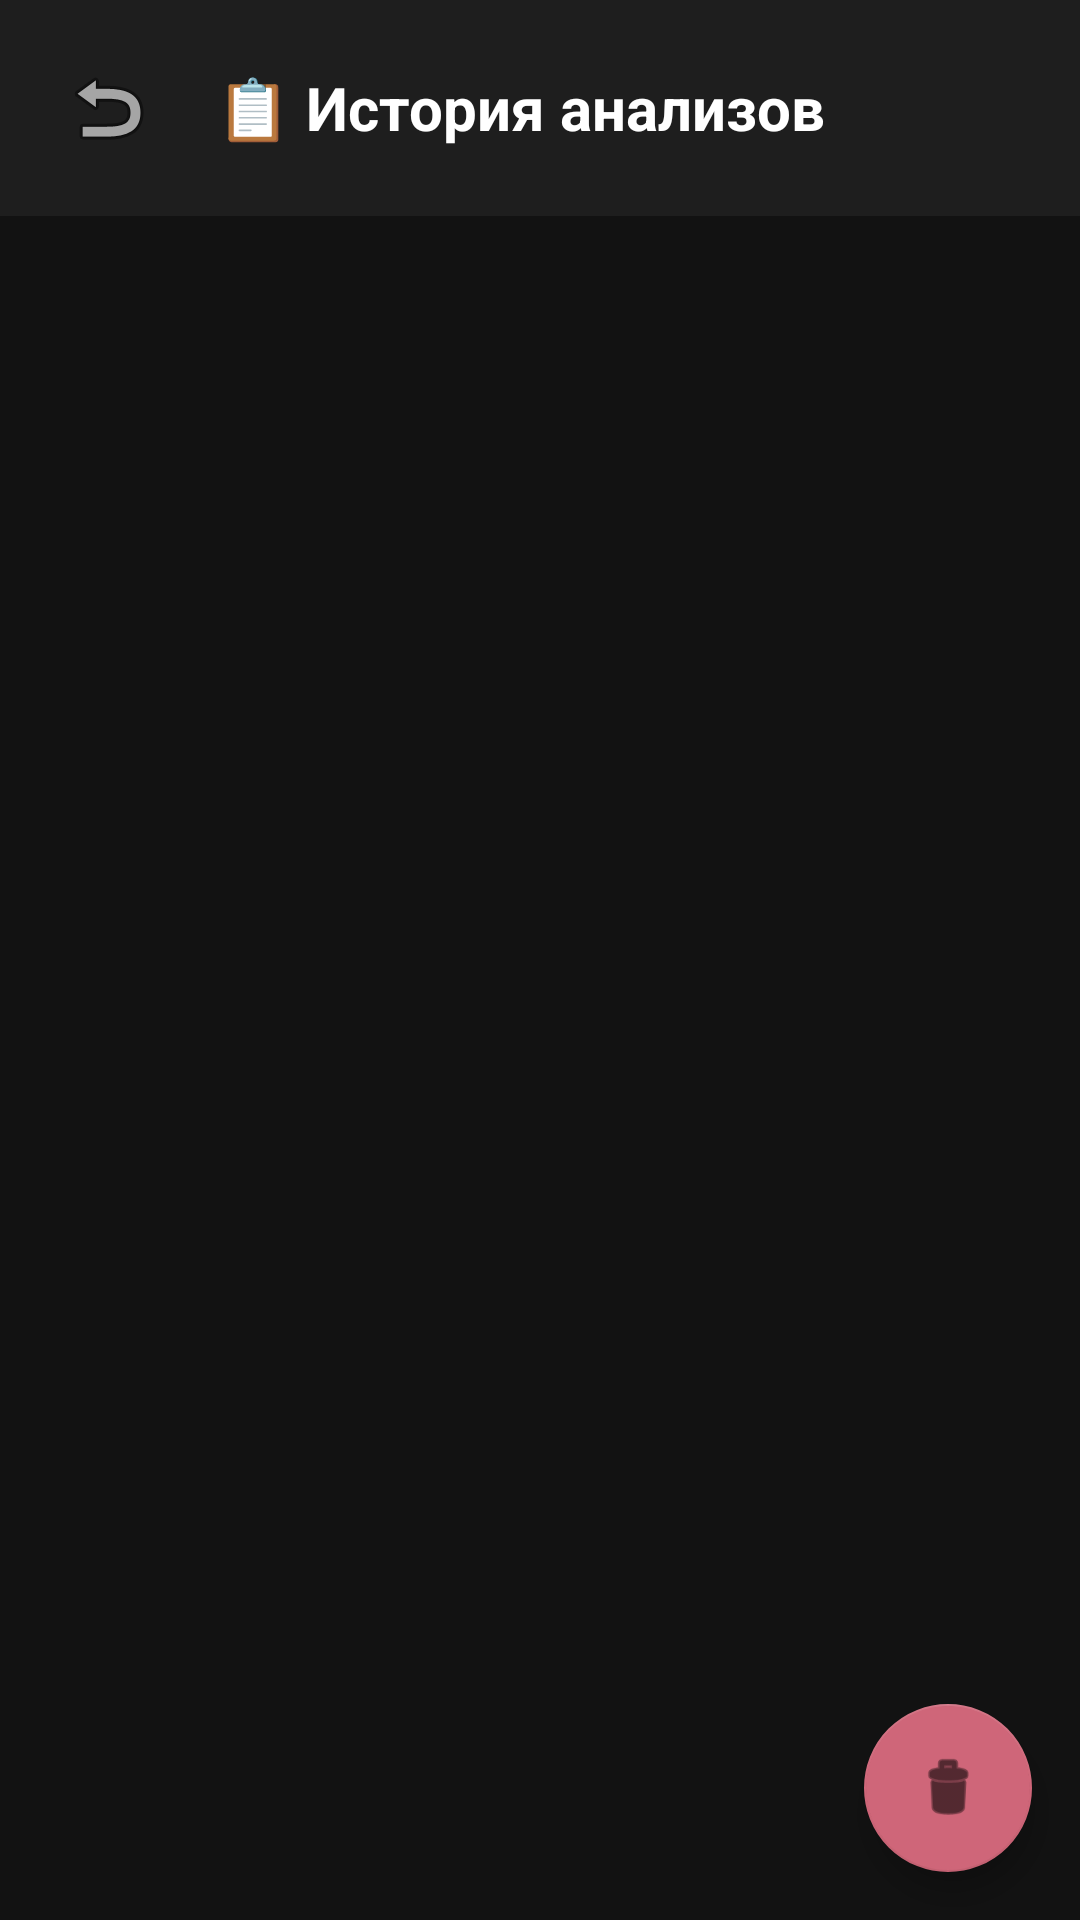

Named icons in this screenshot (1080x1920) and their centers, [x,y]:
Назад: [109,108]
Очистить историю: [948,1788]
